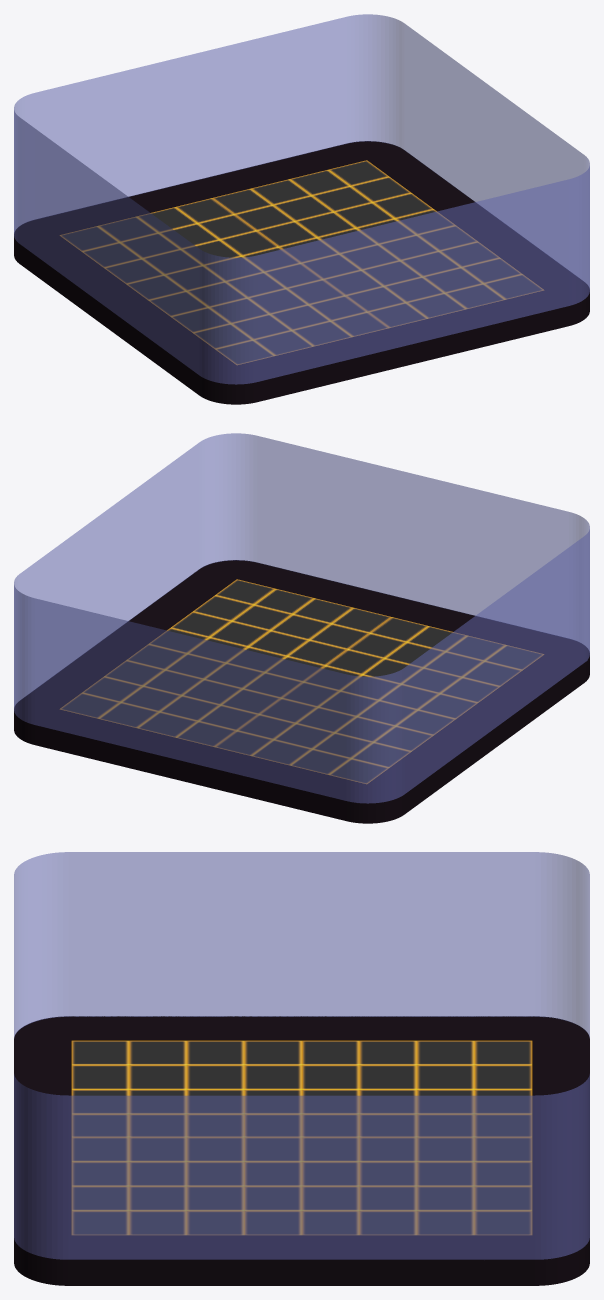
The model's file is arena.fbx.
The picture shows the model from 3 angles, top to bottom: view 1: azimuth 30°, elevation 25°; view 2: azimuth 150°, elevation 25°; view 3: azimuth 270°, elevation 25°; orthographic projection. The views are drawn at different scales.
Parts seen in each view (by area): view 1: Walls, Arena, BaseFloor; view 2: Walls, Arena, BaseFloor; view 3: Walls, Arena, BaseFloor.
Boxes of the visible parts, box(x1,y1,x2,y2) form: Walls: box(14, 14, 589, 384); Arena: box(60, 160, 543, 365); BaseFloor: box(14, 141, 589, 404); Walls: box(14, 433, 589, 803); Arena: box(60, 579, 543, 784); BaseFloor: box(14, 560, 589, 823); Walls: box(14, 852, 589, 1259); Arena: box(71, 1040, 532, 1235); BaseFloor: box(14, 1016, 589, 1285).
Bounding box in the file's own units: 1000 × 365 × 1000.
